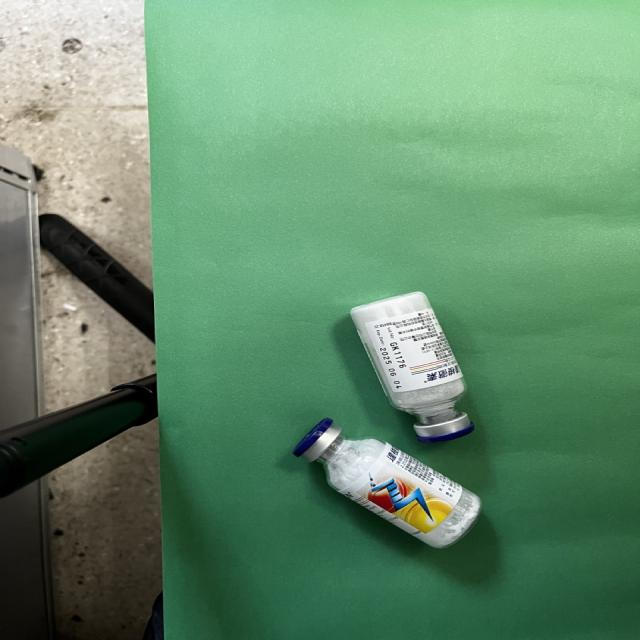Vials: (293, 418, 481, 548), (350, 292, 474, 442)
